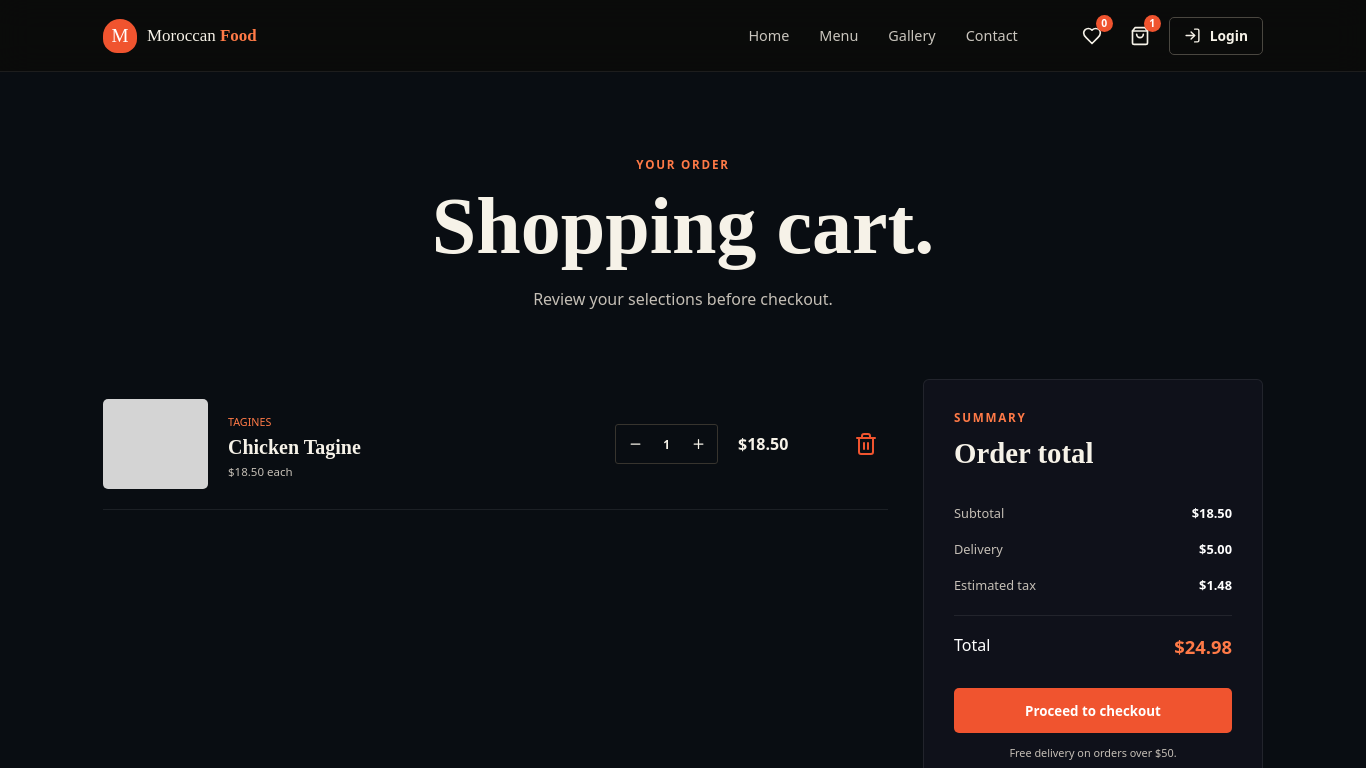
cart workflow › increments and removes an item from the cart page
The image size is (1366, 768).
Click the button named "increase chicken tagine": (698, 444) [679,425,717,463]
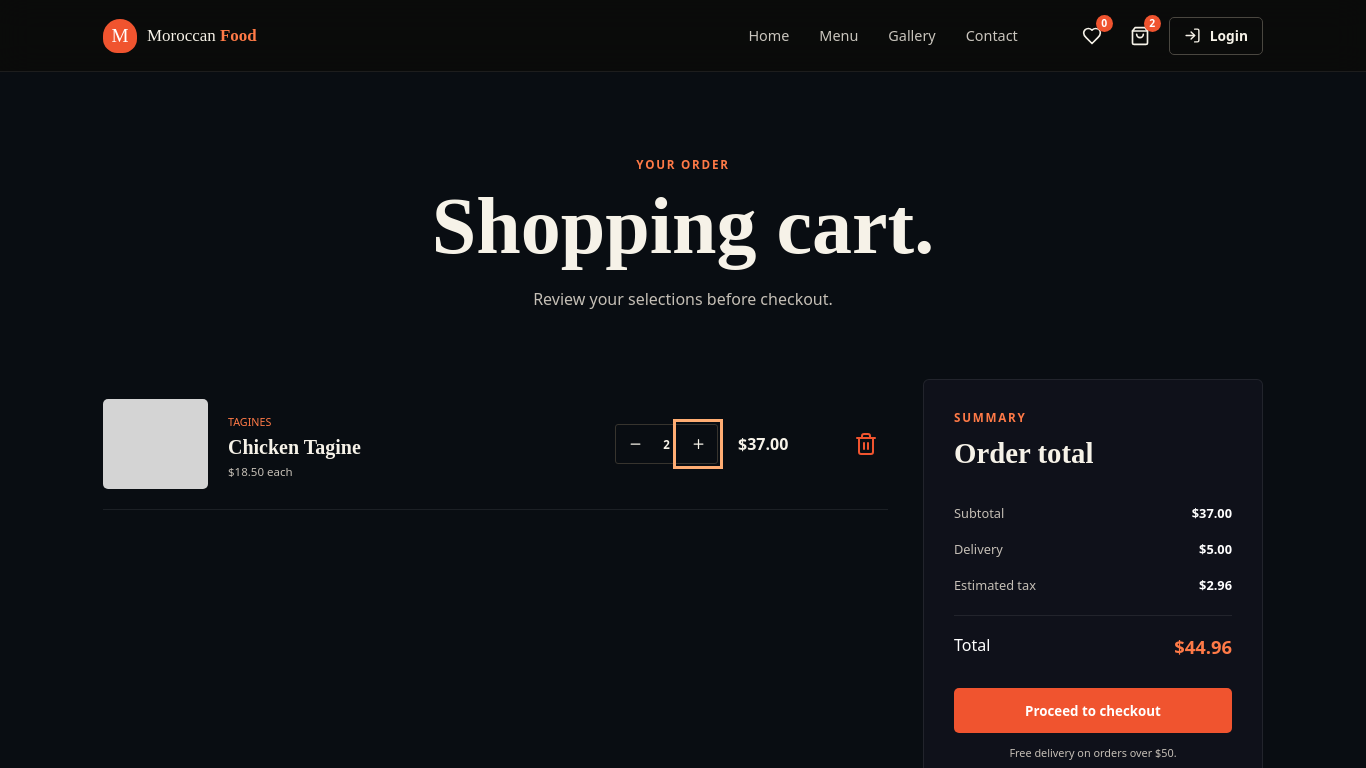
Click the button named "remove chicken tagine": (866, 444) [848,426,884,462]
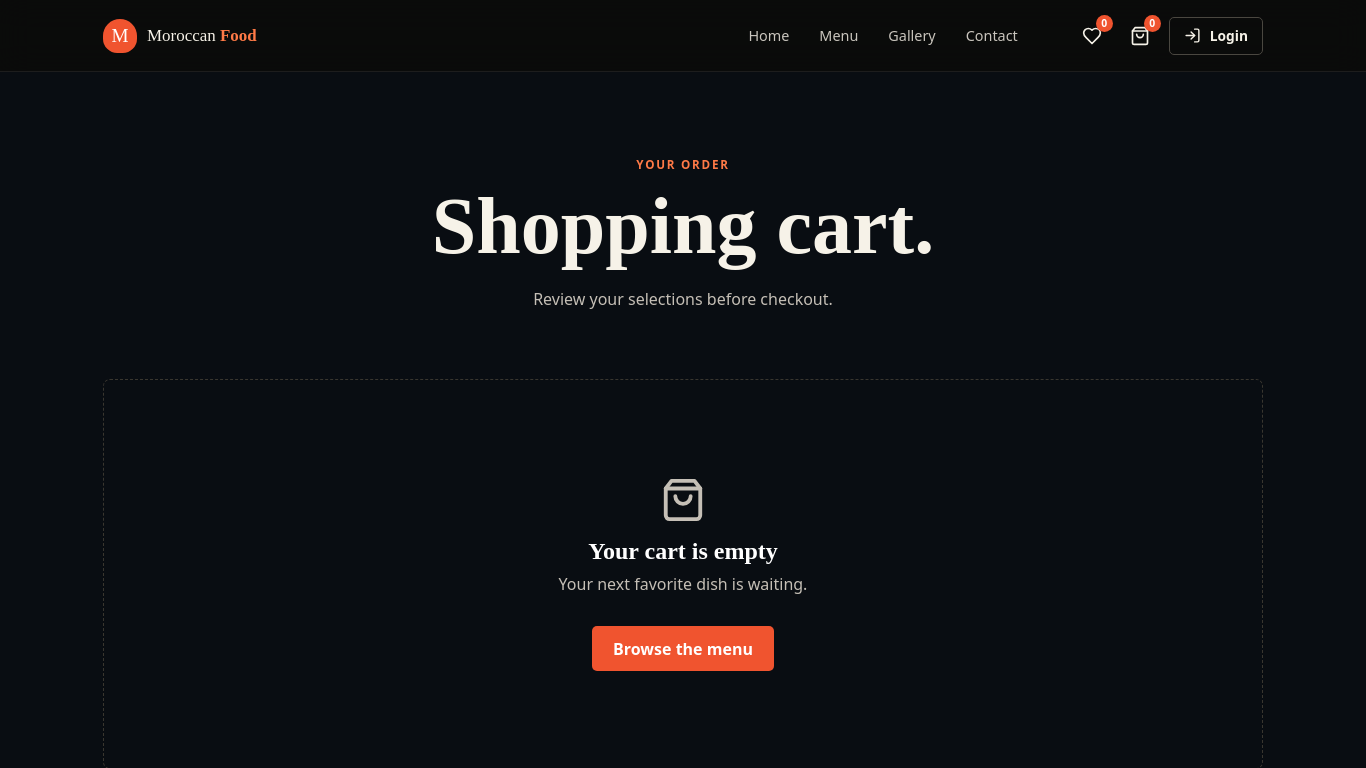
Check: the heading "Your cart is empty" is shown, box [588,538,778,565]
